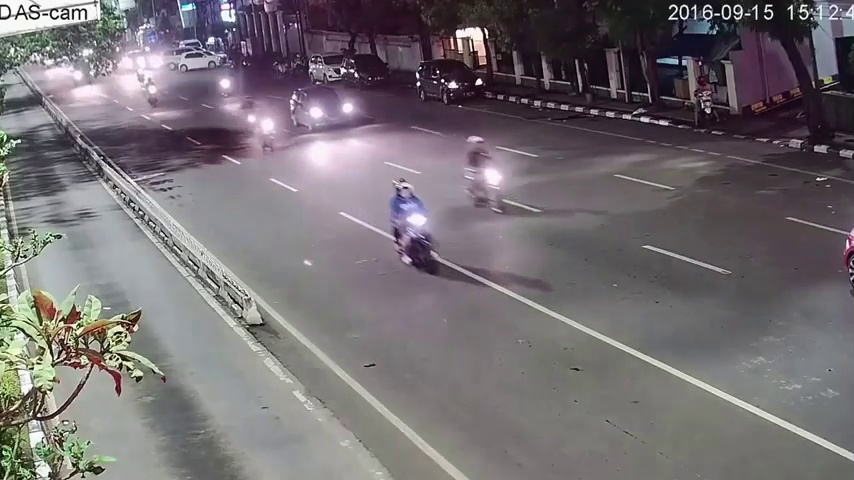car: (417, 58, 484, 108), (290, 86, 346, 137), (341, 51, 389, 88), (307, 55, 346, 83), (180, 51, 227, 72)
motorbike: (387, 176, 438, 271), (465, 134, 507, 219), (693, 78, 714, 123), (255, 106, 274, 155), (242, 95, 259, 133), (215, 70, 234, 101), (145, 79, 159, 109)
